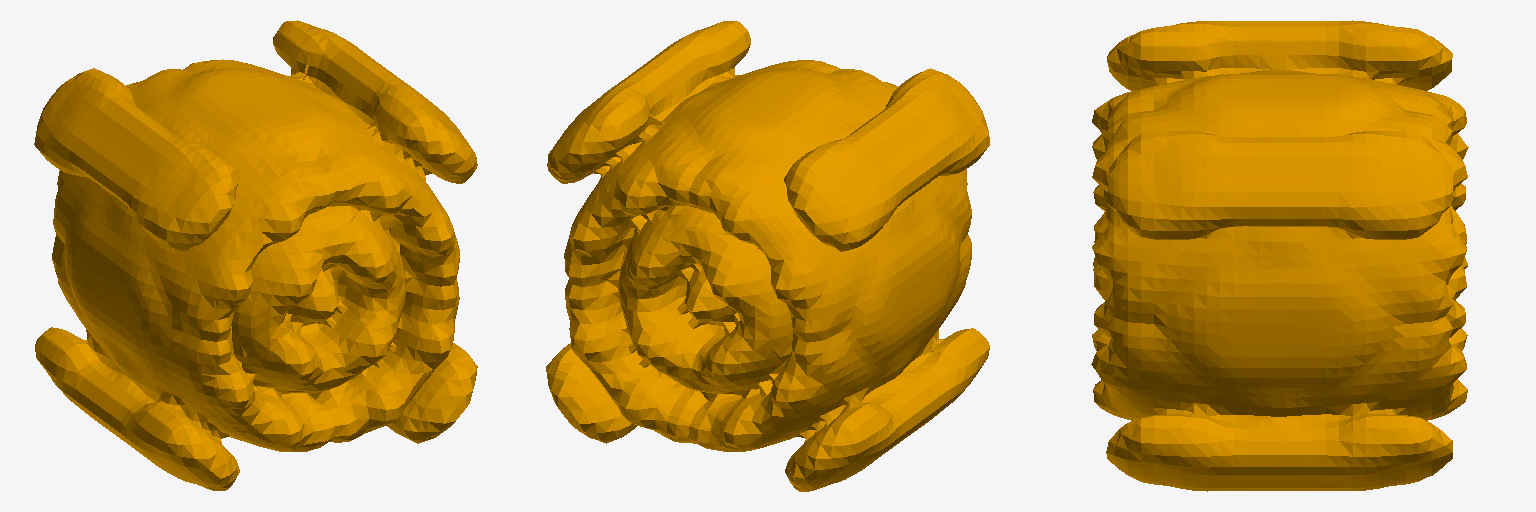
robot.urdf — G20_2:
<?xml version="1.0"?>
<robot name="G20_2">
  <link name="base_link">
    <inertial>
      <mass value="0.07480" />
      <origin xyz="0 0 0" />
      <inertia  ixx="0.0002" ixy="0.0"  ixz="0.0"  iyy="0.0002"  iyz="0.0" izz="0.0002" />
    </inertial>
    <visual>
      <geometry>
        <mesh filename="../../../meshes/egad/train/G20_2.obj" />
      </geometry>
    </visual>
    <collision>
      <geometry>
        <mesh filename="../../../meshes/egad/train/G20_2.obj" />
      </geometry>
    </collision>
  </link>
</robot>

--- What the picture shows (computed from the rendered views, not written in the file) ---
3 views of the same robot in one strip: view 1: azimuth 30°, elevation 25°; view 2: azimuth 150°, elevation 25°; view 3: azimuth 270°, elevation 25° (orthographic).
Robot: G20_2 — 1 links, 0 joints (none); root link base_link; default pose: all joints at 0.
Visible links, largest first — view 1: base_link; view 2: base_link; view 3: base_link.
Link boxes in pixels (x1,y1,x2,y2): base_link: [34, 20, 477, 490]; base_link: [546, 21, 989, 491]; base_link: [1091, 20, 1468, 491].
Size in the robot's own frame: 0.0623 by 0.0601 by 0.0623 metres.
Meshes: 1 distinct files referenced, 1 mesh visuals loaded (1 OBJ).